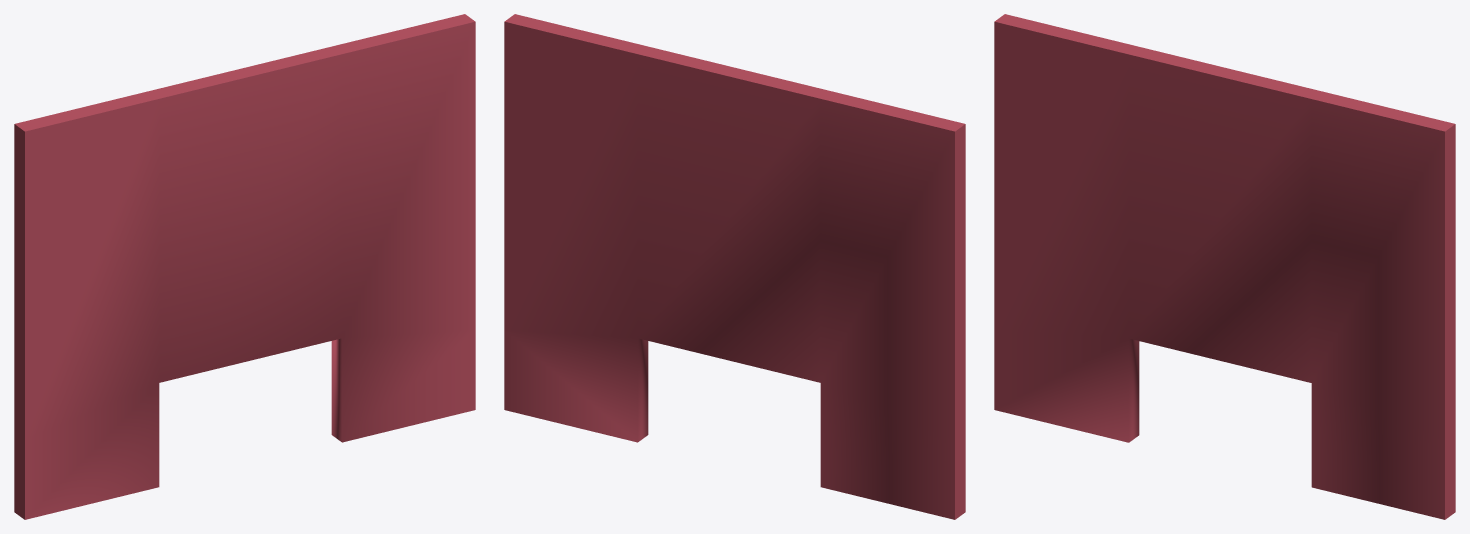
File: StadiumFence-MedHole_COLLIDER.fbx
The picture shows the model from 3 angles, left to right: view 1: azimuth 30°, elevation 25°; view 2: azimuth 150°, elevation 25°; view 3: azimuth 330°, elevation 25°; orthographic projection.
Parts seen in each view (by area): view 1: StadiumFenceMedHole_COLLIDER; view 2: StadiumFenceMedHole_COLLIDER; view 3: StadiumFenceMedHole_COLLIDER.
Part boxes in pixels (x1,y1,x2,y2): StadiumFenceMedHole_COLLIDER: (14, 14, 475, 519); StadiumFenceMedHole_COLLIDER: (504, 14, 965, 519); StadiumFenceMedHole_COLLIDER: (994, 14, 1455, 519).
Bounding box in the file's own units: 255 × 210 × 10.26.
